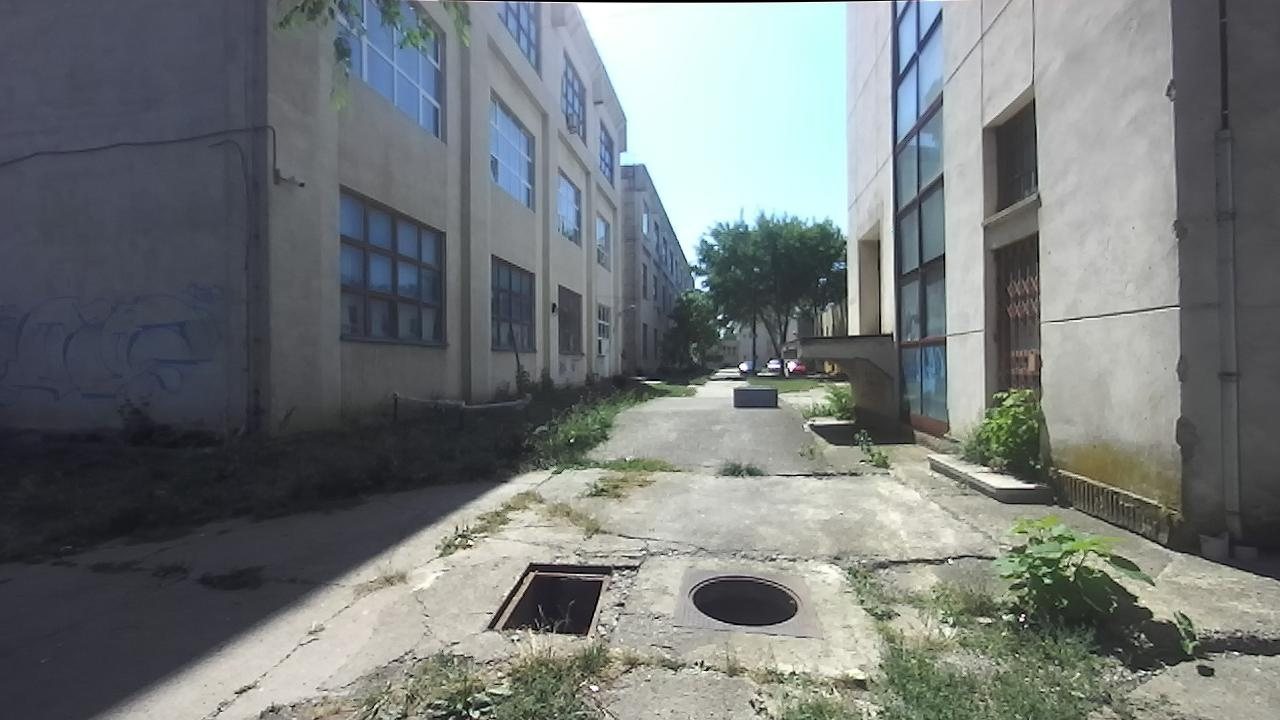drain: (480, 555, 620, 638), (683, 572, 808, 630)
